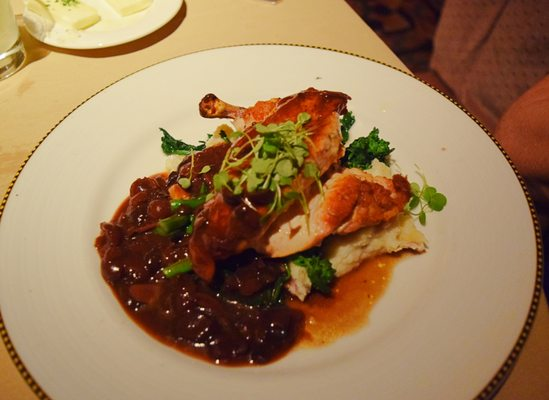curry: (343, 127, 394, 170)
